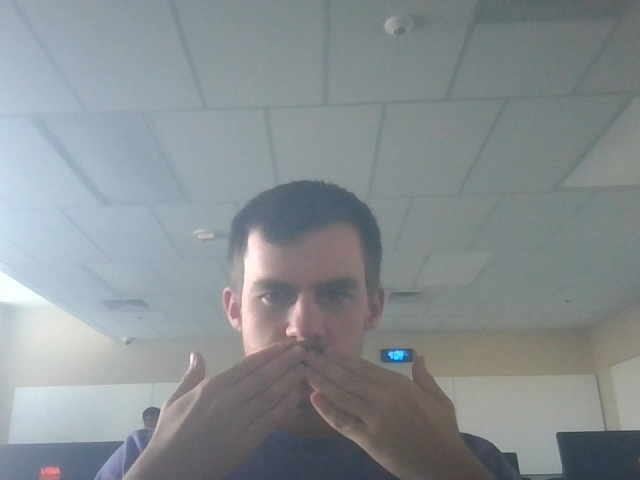thanks: (147, 326, 491, 480)
